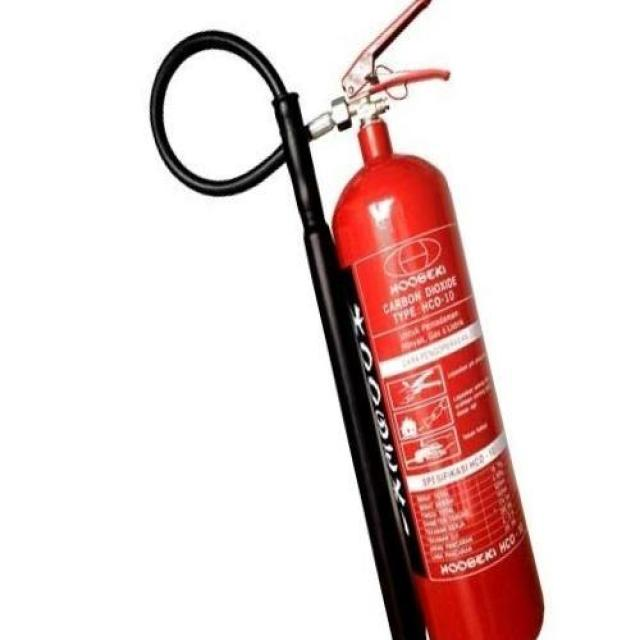fire_extinguisher: (141, 0, 549, 637)
